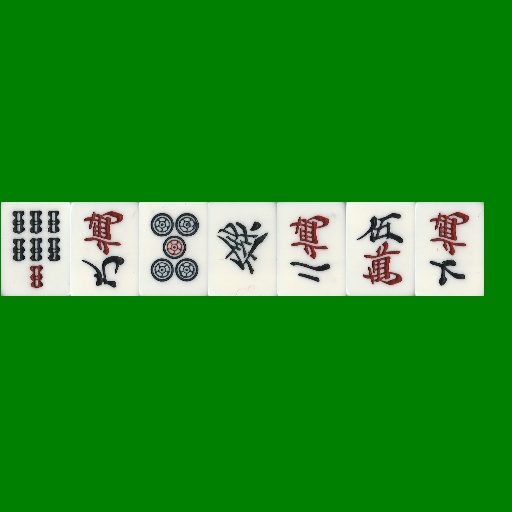2m: (277, 202, 346, 296)
5m: (346, 202, 415, 296)
5p: (139, 202, 208, 296)
7m: (415, 202, 484, 296)
7s: (1, 202, 70, 296)
9m: (70, 202, 139, 296)
hatsu: (208, 202, 277, 296)
